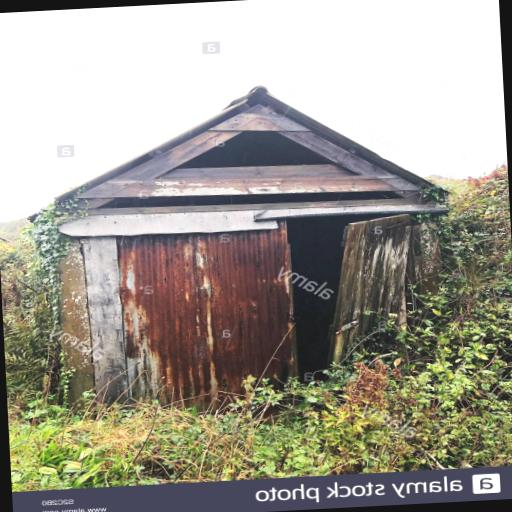segmentation: (120, 230, 291, 399), (336, 222, 409, 322)
